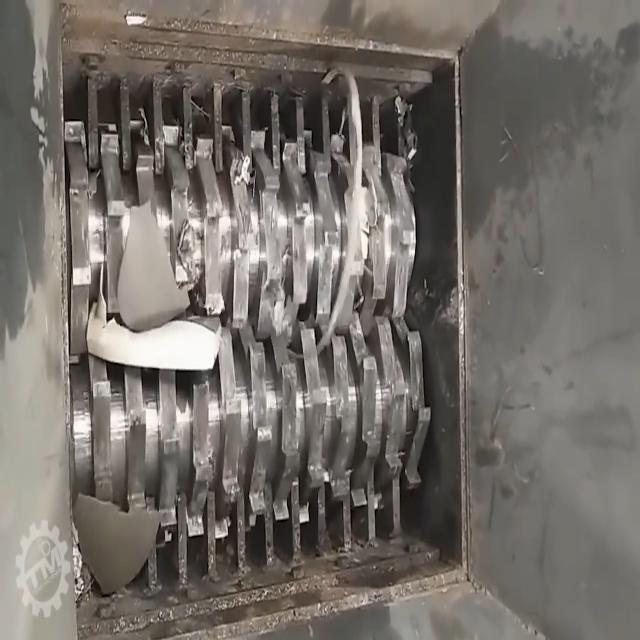Broyeur: (48, 2, 492, 640)
